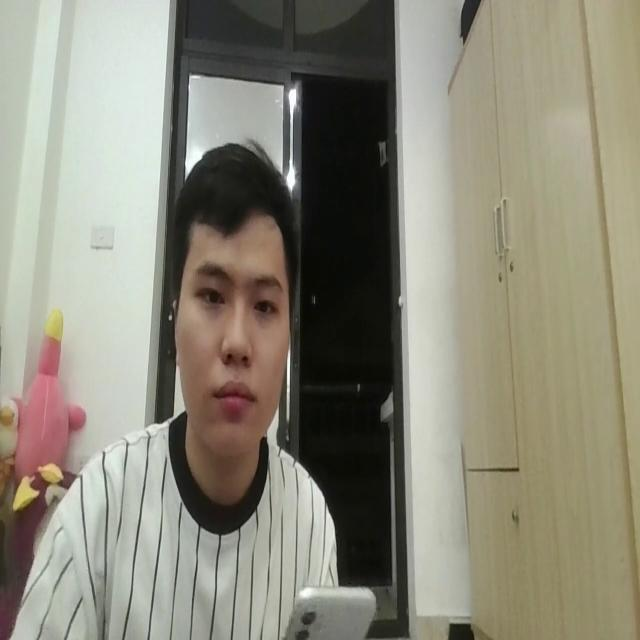phone: (281, 581, 378, 640)
student: (11, 129, 337, 640)
